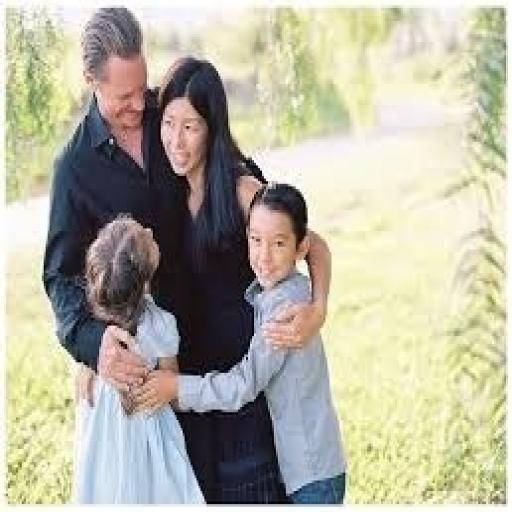hugging: (40, 5, 347, 504)
